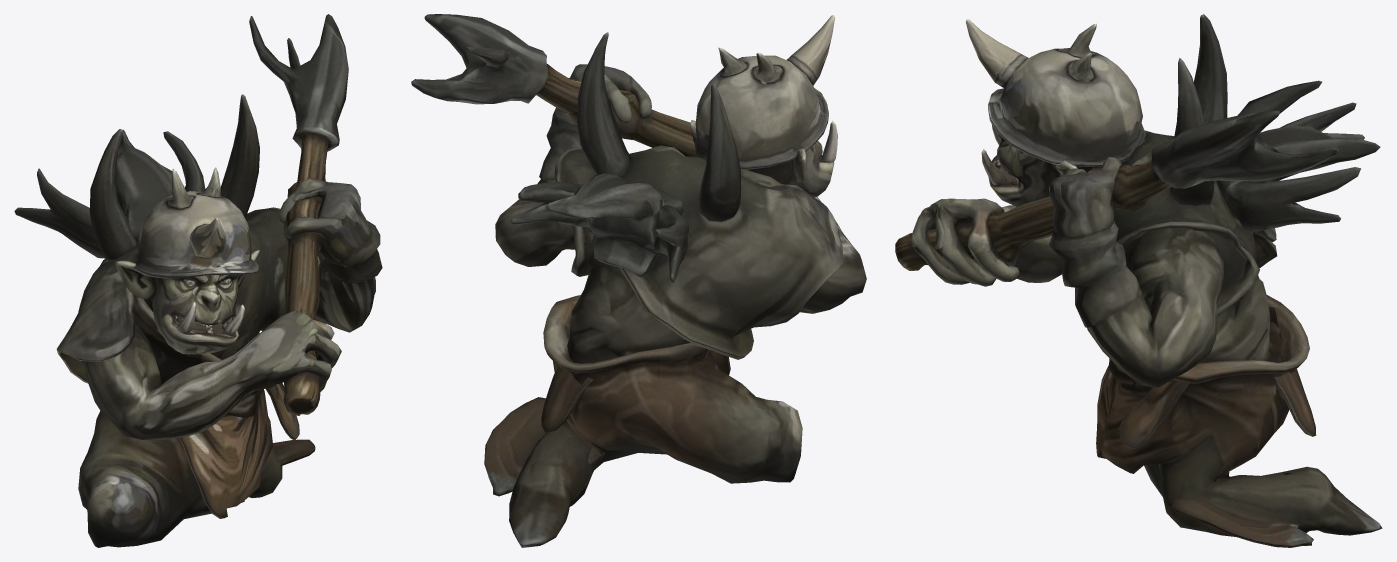
File: diggers.glb
3 renders of one model, left to right at view 1: azimuth 30°, elevation 25°; view 2: azimuth 150°, elevation 25°; view 3: azimuth 270°, elevation 25°, orthographic. The views are drawn at different scales.
Size of the model in its own units: 0.7879 by 1 by 0.8972.
1 material, 1 textured.
